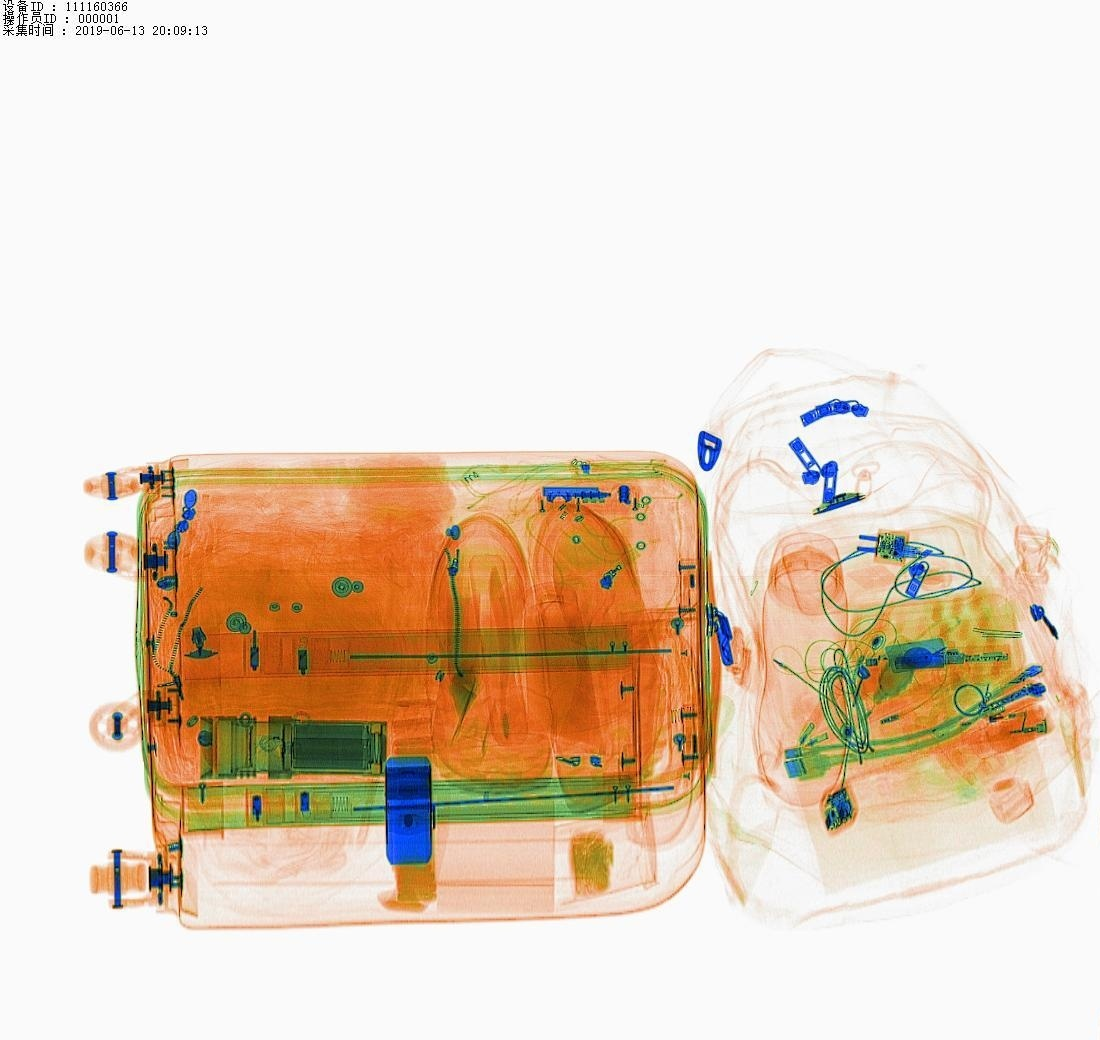NonmetallicFire: (953, 704, 1053, 744)
